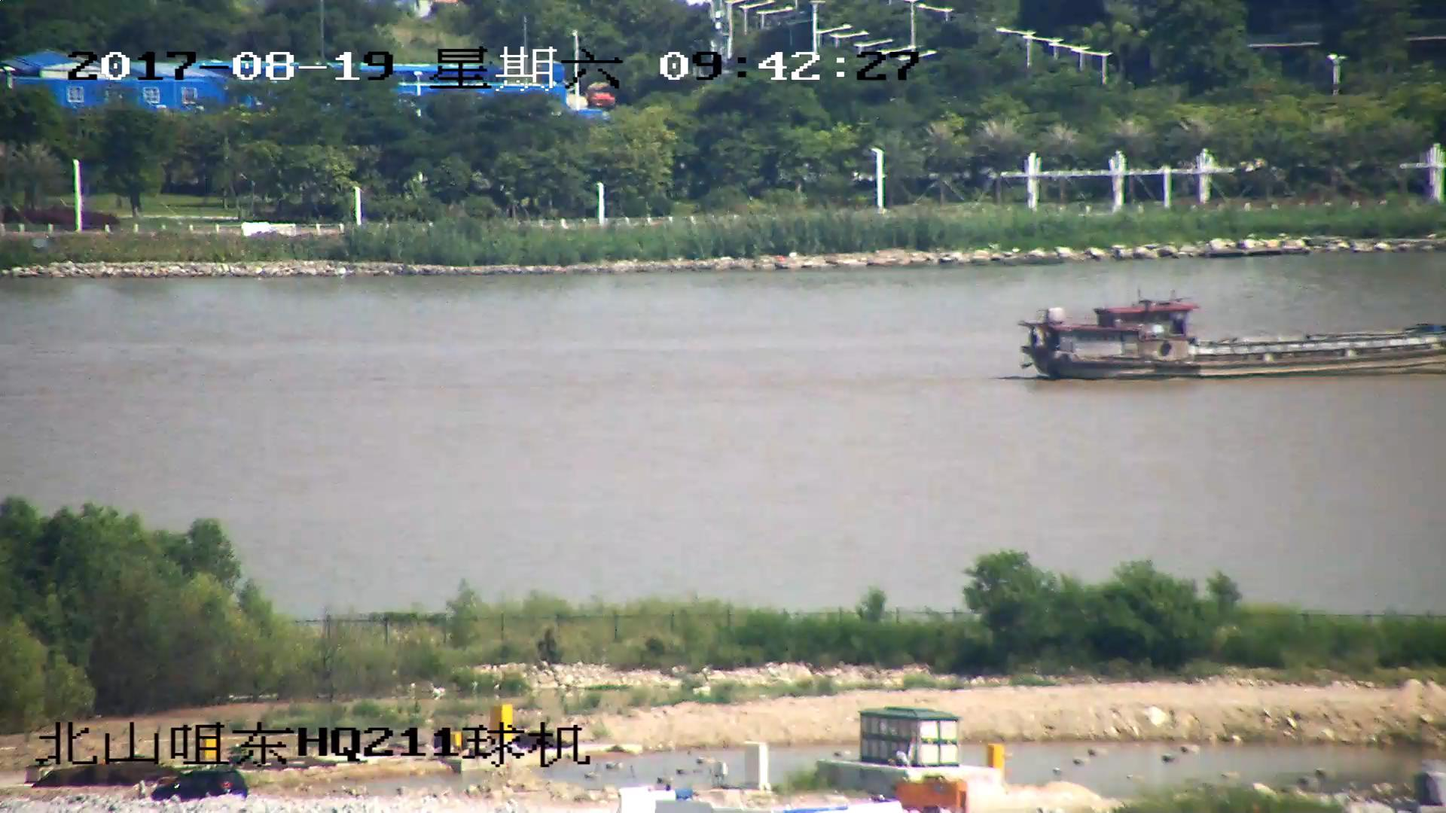fishing boat: (1017, 303, 1445, 379)
